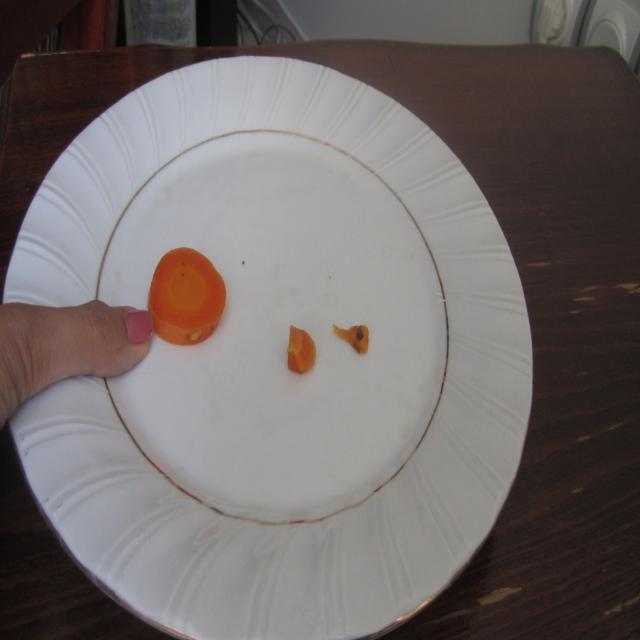carrot: (146, 244, 227, 347)
